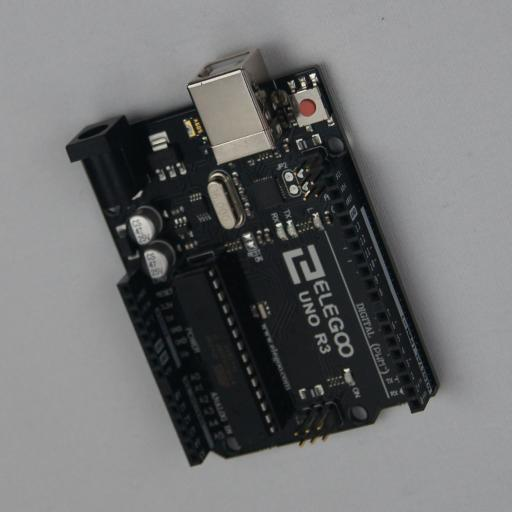Arduino Uno -Black-: (66, 49, 442, 466)
